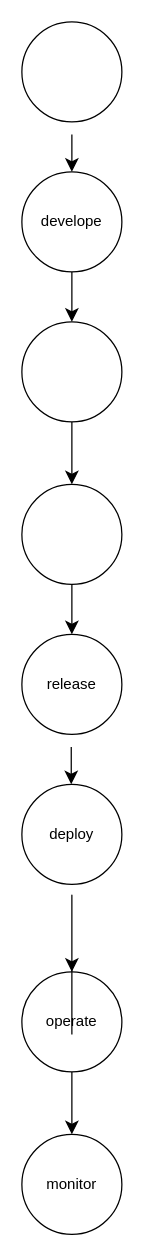
Some shapes in this 144 by 1256 pixel diagram are drawn without their labels. Each missing label, with the centre of its shape:
"built" goes at point 71,371.
"plan" goes at point 71,71.
"test" goes at point 71,533.
